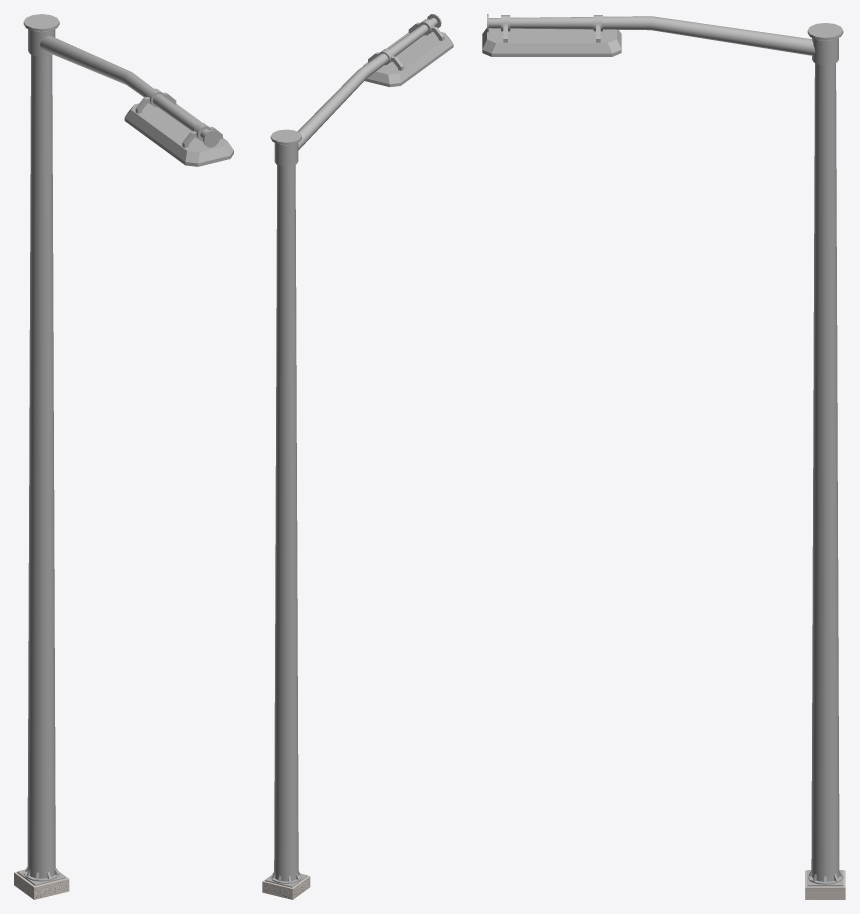
Rendered from streetlightsingle.glb.
3 views of the same model, side by side, from view 1: azimuth 30°, elevation 25°; view 2: azimuth 150°, elevation 25°; view 3: azimuth 270°, elevation 25° (orthographic). The views are drawn at different scales.
Visible parts, largest first — view 1: cityblockassetkit; view 2: cityblockassetkit; view 3: cityblockassetkit.
Boxes of the visible parts, x1,y1,x2,y2 form: cityblockassetkit: (14,14,233,899); cityblockassetkit: (262,14,453,899); cityblockassetkit: (482,14,845,899).
Bounding box in the file's own units: 0.6 × 10.41 × 3.91.
Materials: 4 (1 with a texture image).
